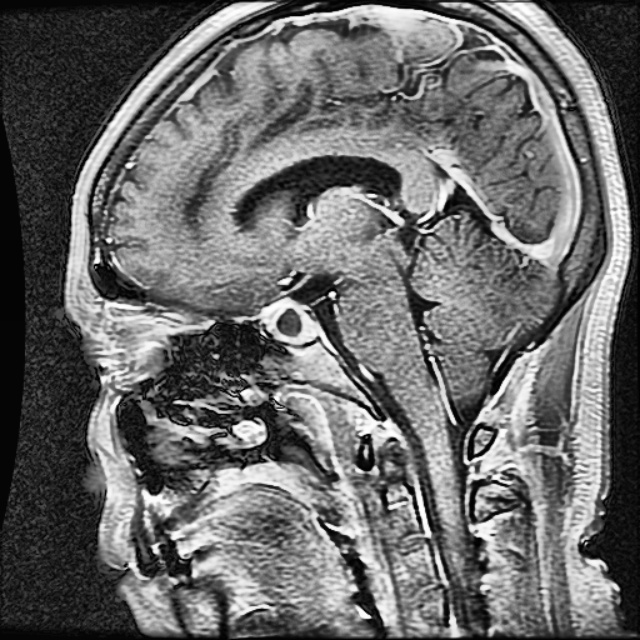Pituitary: (260, 298, 319, 343)
